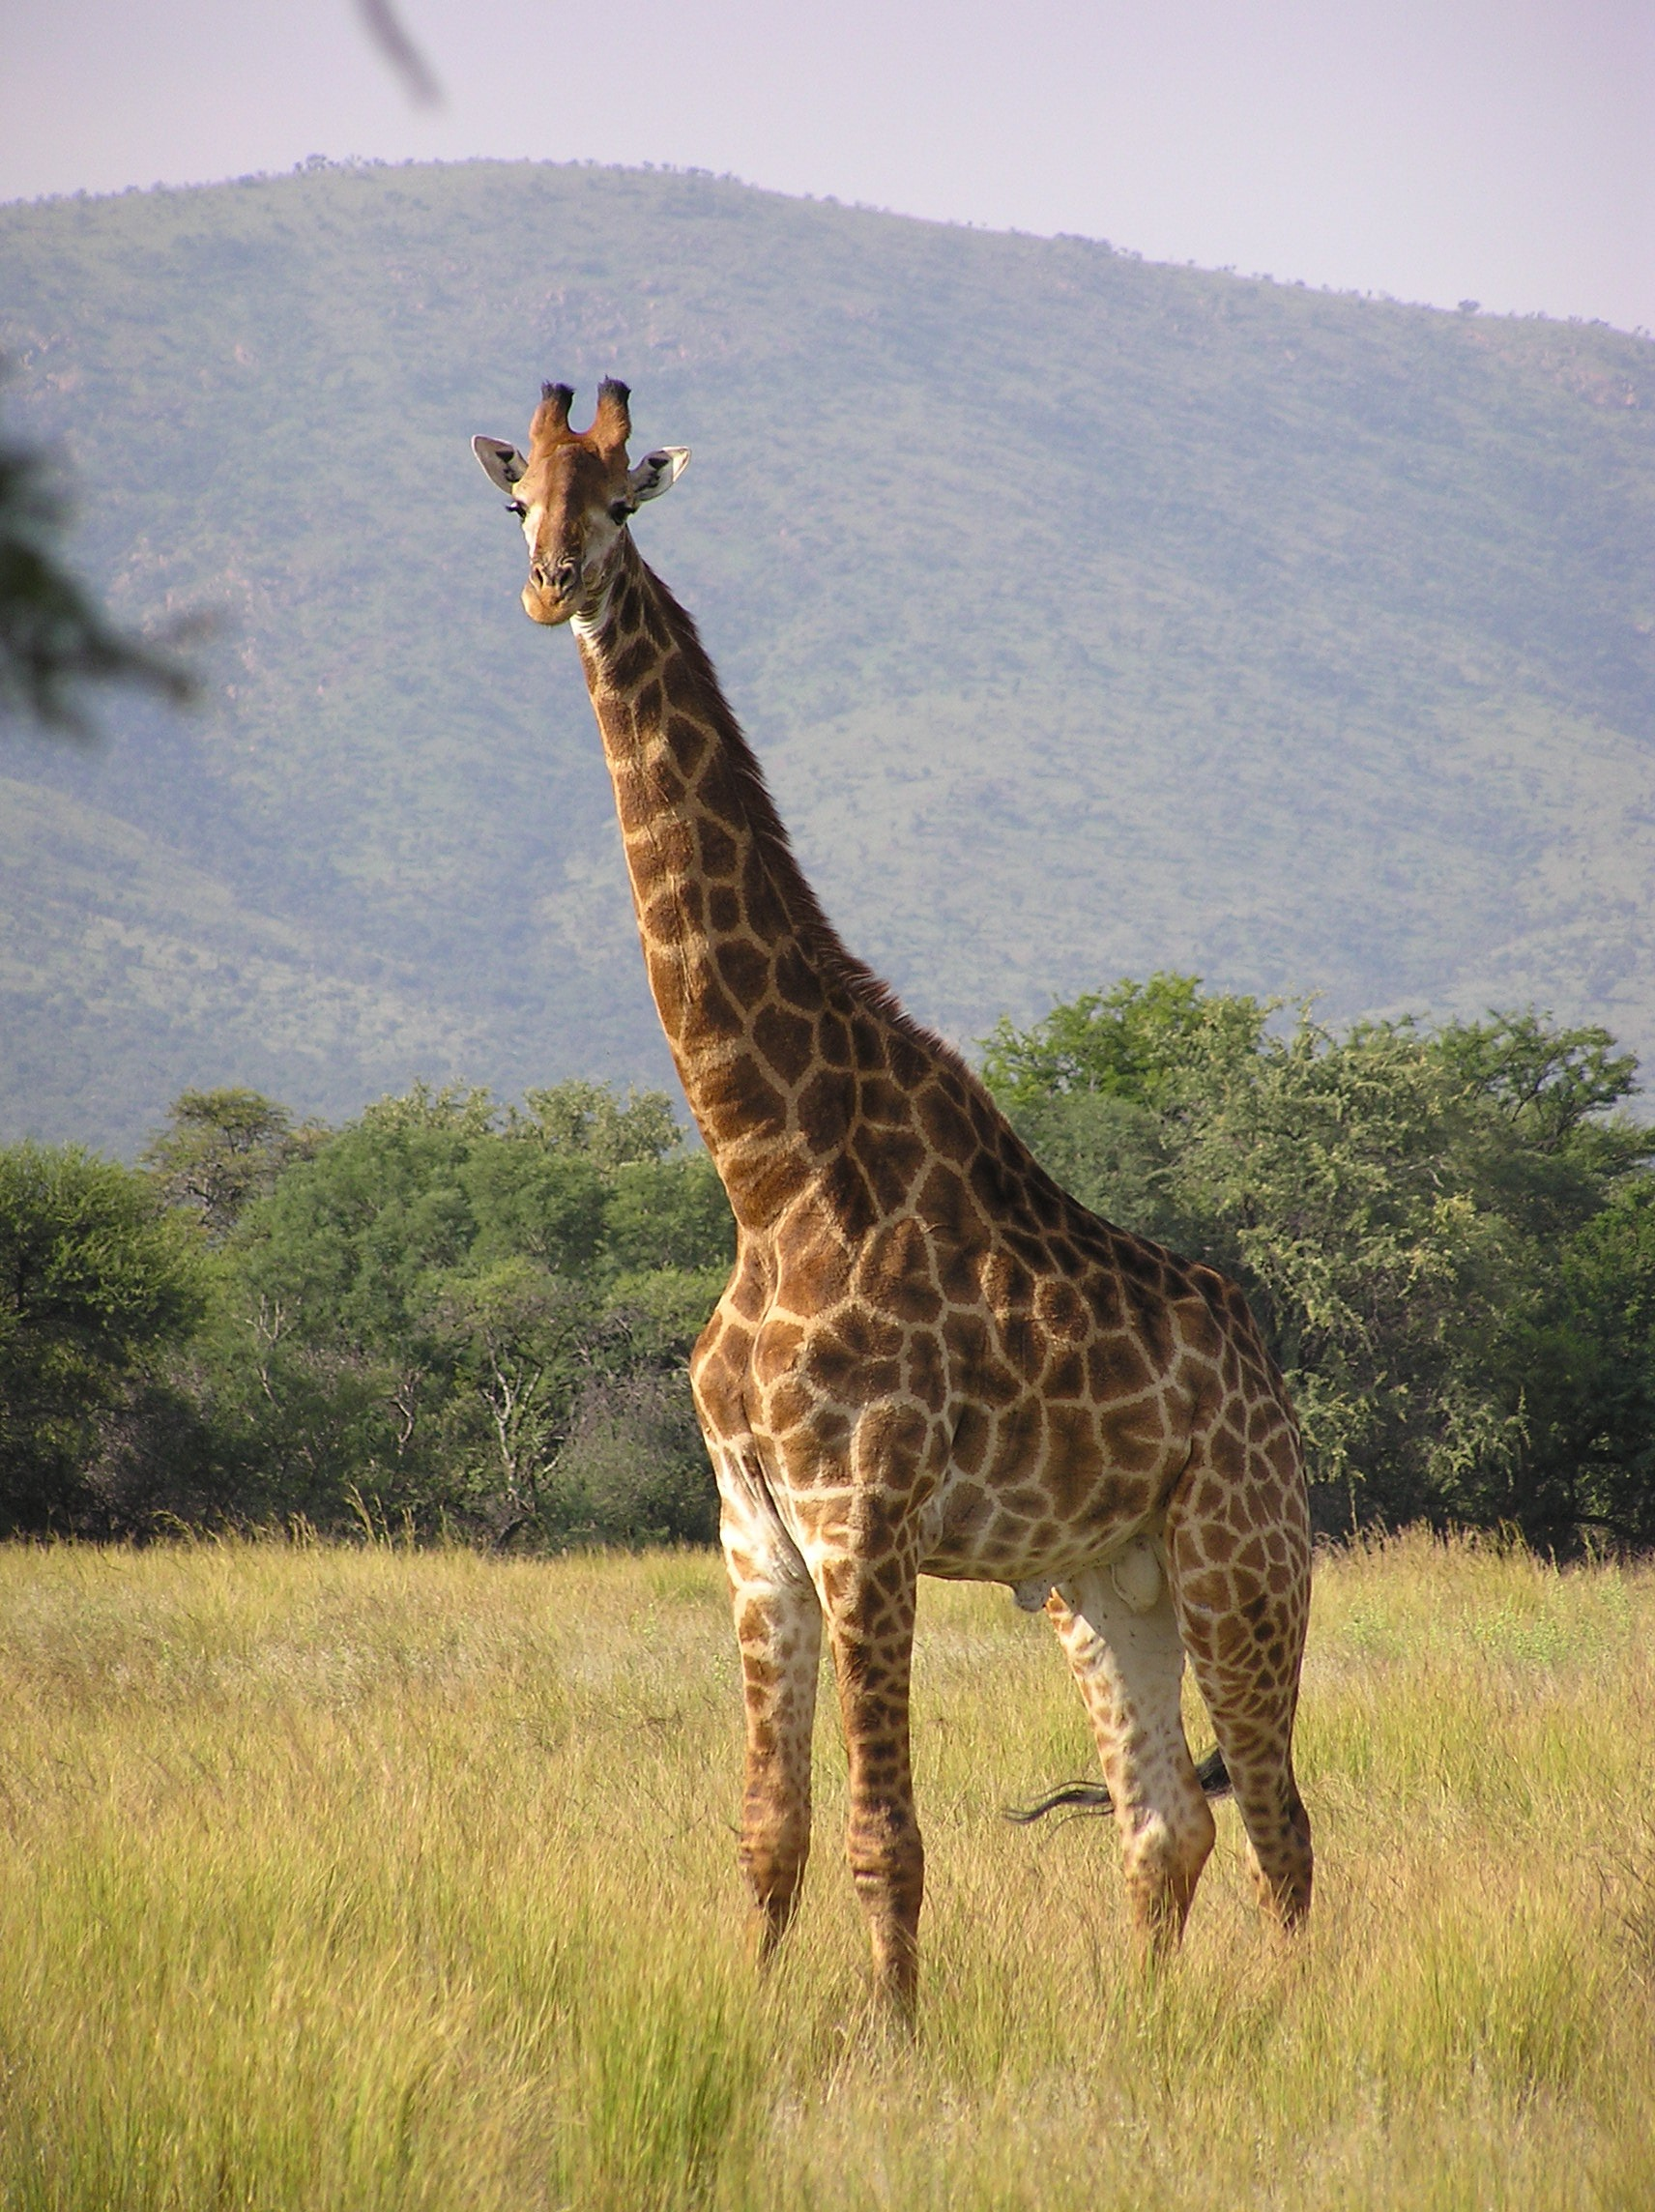giraffe: (417, 322, 1443, 2094)
